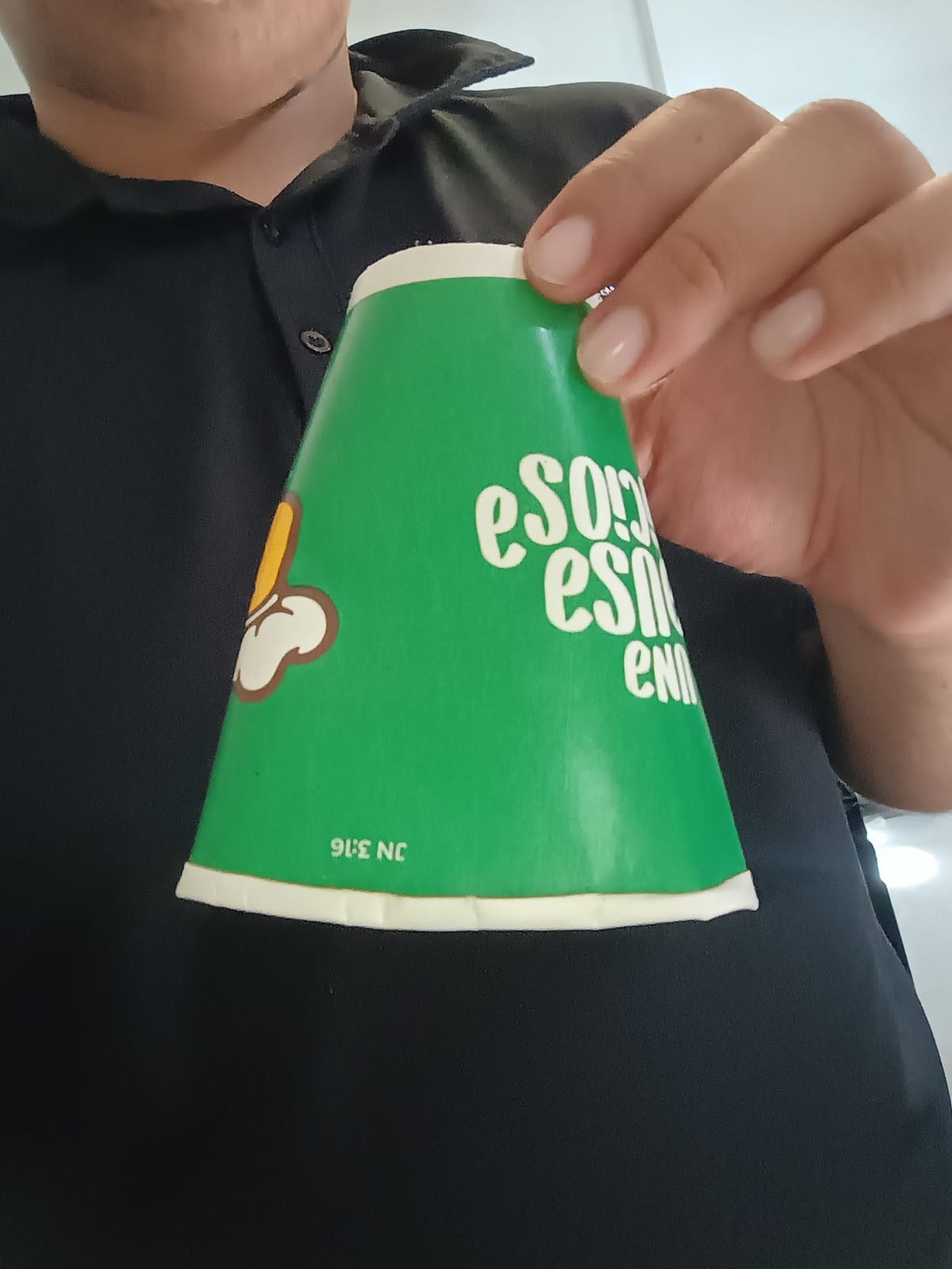Carton: (179, 242, 759, 931)
